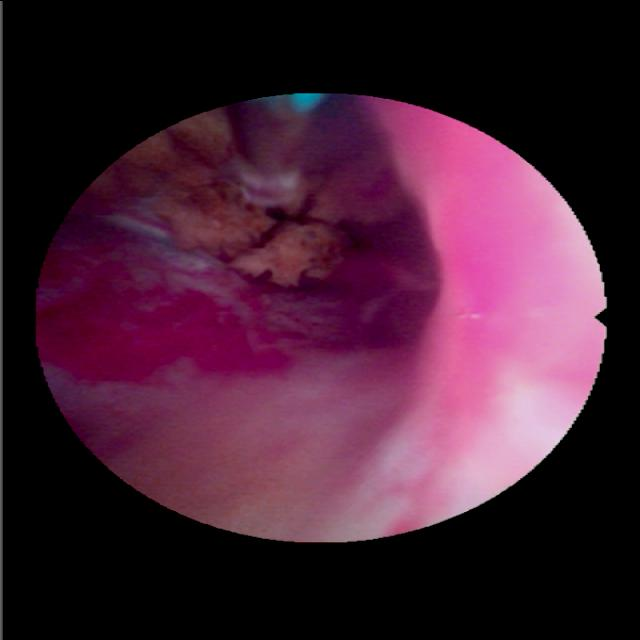stone: (94, 114, 348, 285)
tissue: (50, 100, 596, 535)
